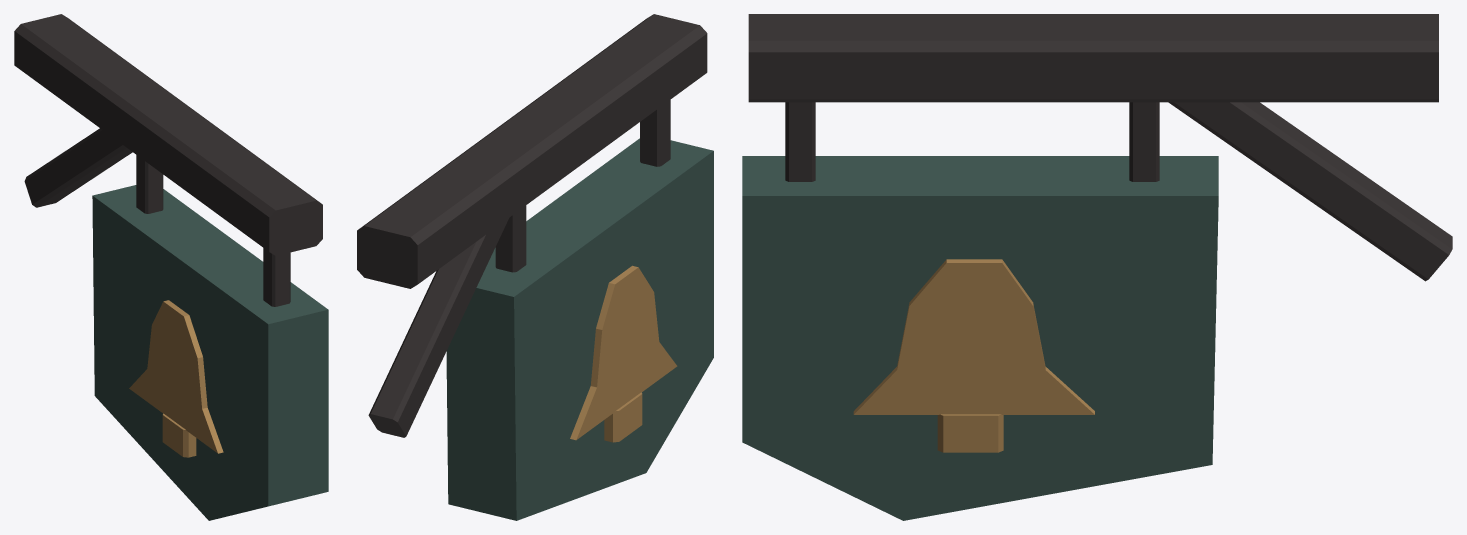
The model's file is bell_sign.glb.
The picture shows the model from 3 angles, left to right: view 1: azimuth 30°, elevation 25°; view 2: azimuth 150°, elevation 25°; view 3: azimuth 270°, elevation 25°; orthographic projection. The views are drawn at different scales.
Visible parts, largest first — view 1: Bell Sign; view 2: Bell Sign; view 3: Bell Sign.
Boxes of the visible parts, x1,y1,x2,y2 form: Bell Sign: (14, 14, 328, 520); Bell Sign: (357, 14, 713, 520); Bell Sign: (742, 14, 1452, 520).
Bounding box in the file's own units: 0.209 × 0.845 × 1.15.
